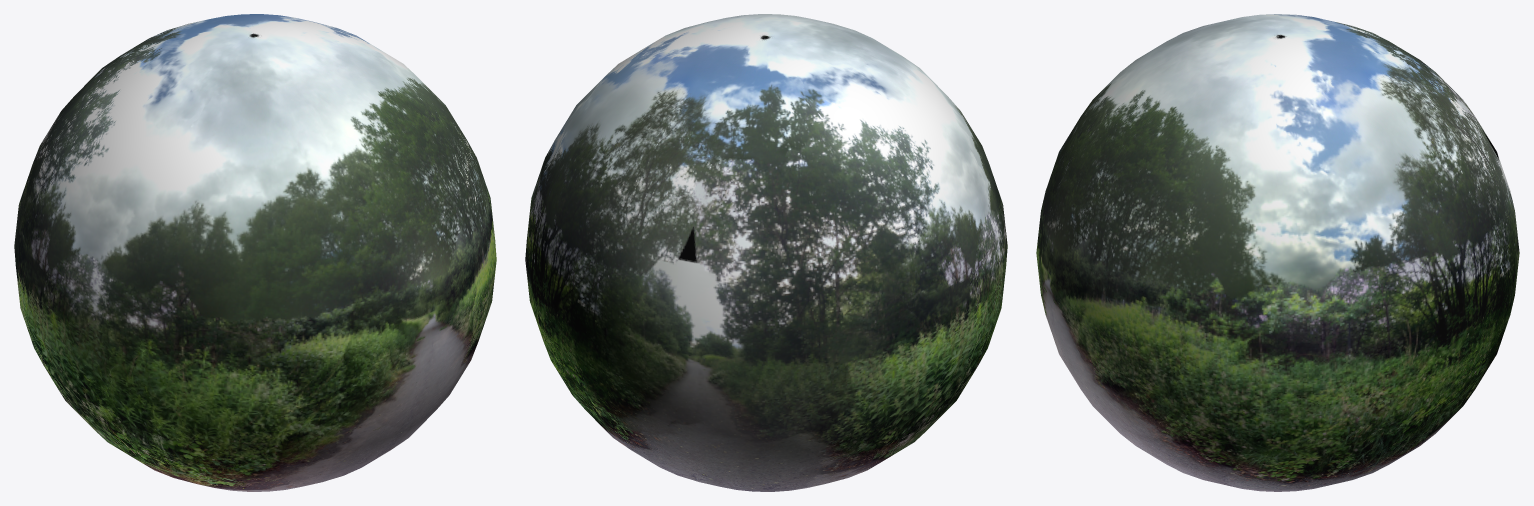
File: photosphere.fbx
3 renders of one model, left to right at view 1: azimuth 30°, elevation 25°; view 2: azimuth 150°, elevation 25°; view 3: azimuth 270°, elevation 25°, orthographic.
Visible parts, largest first — view 1: Sphere.003; view 2: Sphere.003; view 3: Sphere.003.
Part boxes in pixels (left/top/right/bottom): Sphere.003: left=14, top=14, right=496, bottom=491; Sphere.003: left=525, top=14, right=1007, bottom=491; Sphere.003: left=1036, top=14, right=1519, bottom=491.
Bounding box in the file's own units: 199 × 197 × 199.
Materials: 1 (1 with a texture image).
